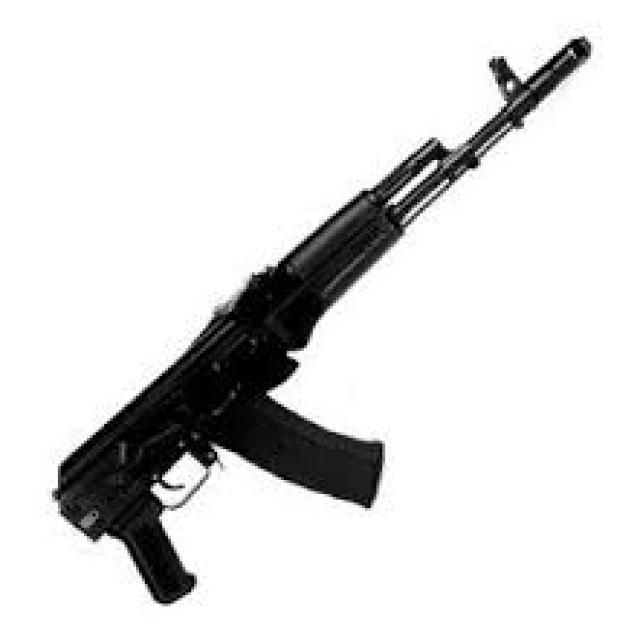rifle: (43, 22, 596, 613)
